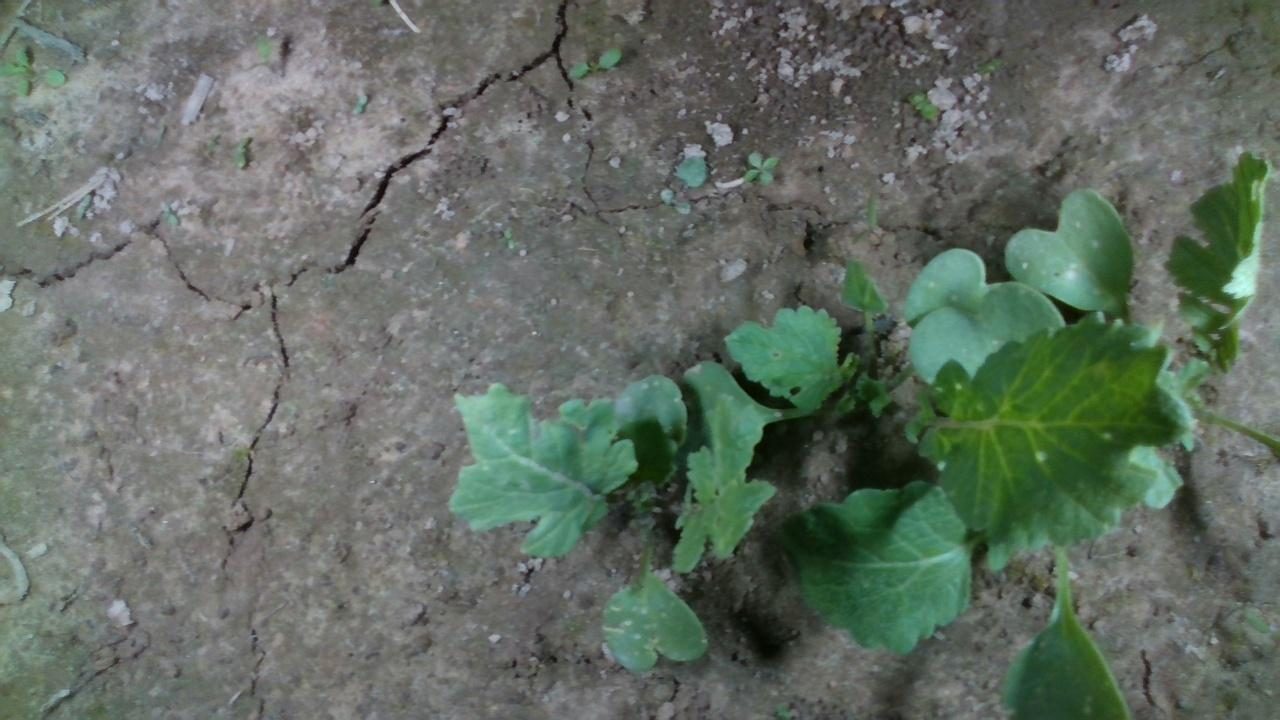weed: (567, 45, 623, 79), (738, 147, 779, 186), (904, 88, 942, 121)
